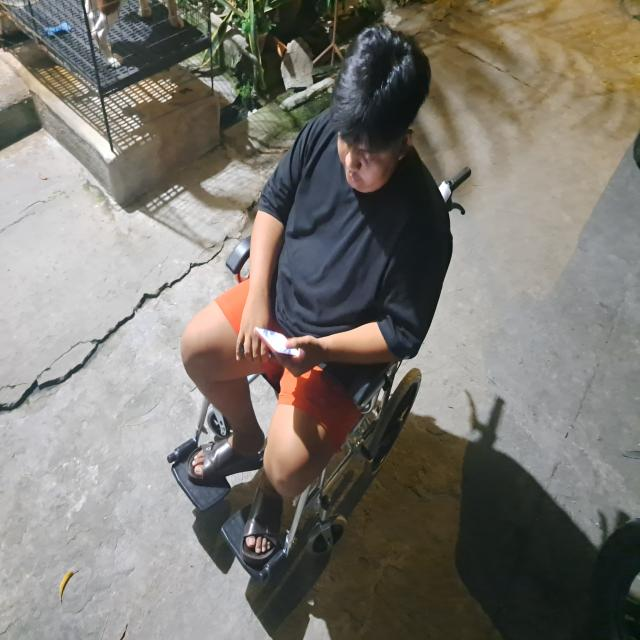wheelchairs: (168, 231, 440, 599)
